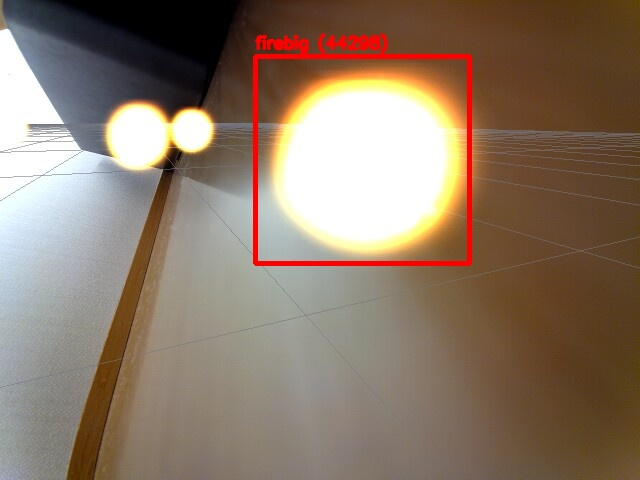firebig: (255, 56, 469, 263)
